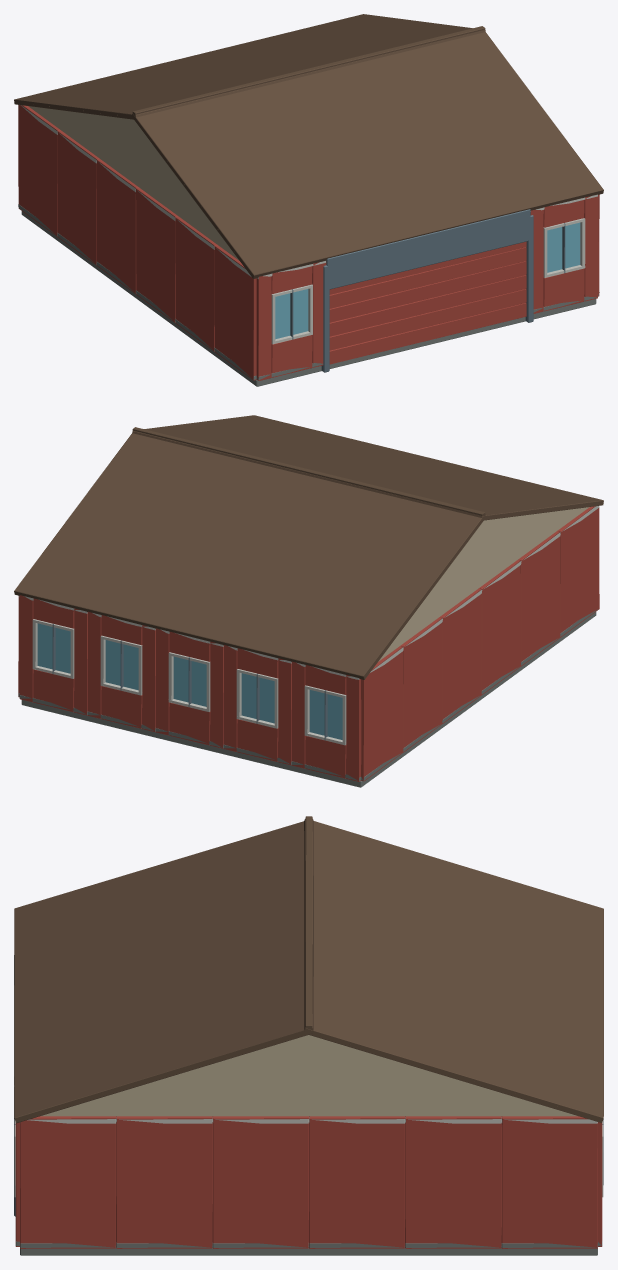
File: architecture-barn.lod1.glb
3 renders of one model, top to bottom at view 1: azimuth 30°, elevation 25°; view 2: azimuth 150°, elevation 25°; view 3: azimuth 270°, elevation 25°, orthographic. The views are drawn at different scales.
Parts seen in each view (by area): view 1: architecture-barn__body, architecture-barn__loading_door; view 2: architecture-barn__body; view 3: architecture-barn__body.
Boxes of the visible parts, x1,y1,x2,y2 form: architecture-barn__body: (14,14,603,386); architecture-barn__loading_door: (329,241,526,364); architecture-barn__body: (14,415,603,787); architecture-barn__body: (14,816,603,1255).
Size of the model in its own units: 10.31 by 5.35 by 12.25.
